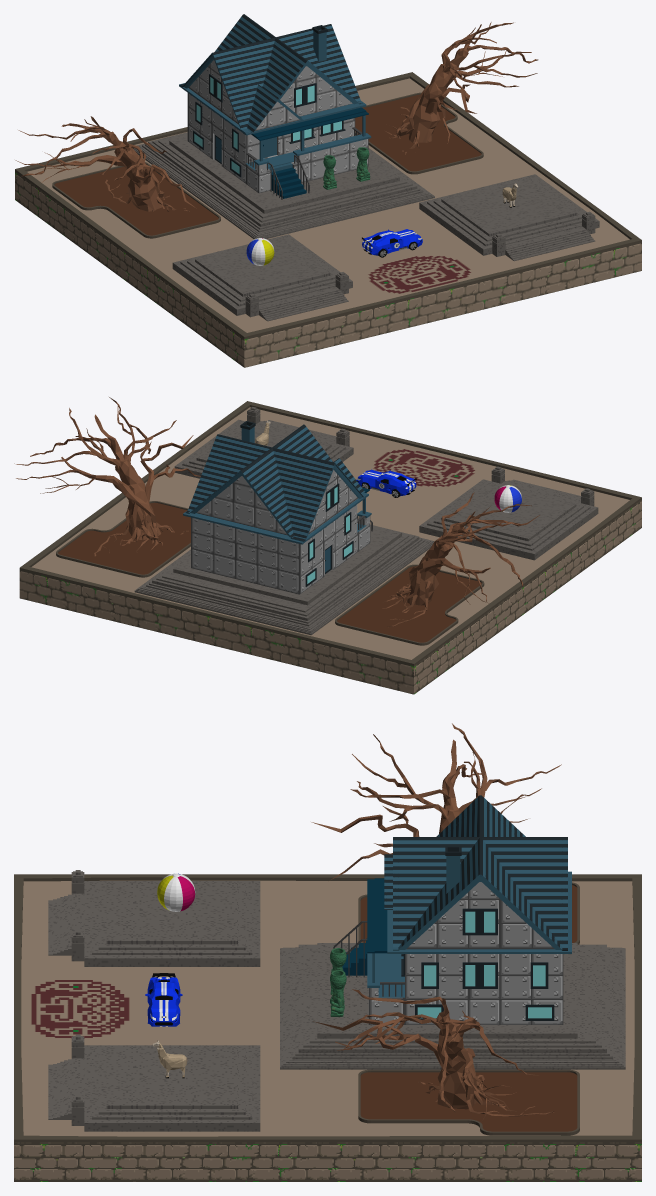
The picture shows the model from 3 angles, top to bottom: view 1: azimuth 30°, elevation 25°; view 2: azimuth 150°, elevation 25°; view 3: azimuth 270°, elevation 25°; orthographic projection. The views are drawn at different scales.
Visible parts, largest first — view 1: Cube.011, Cube.078, VEHICLES_RACING_CAR, OBJRANDOM_BEACHBALL; view 2: Cube.011, Cube.078, VEHICLES_RACING_CAR, OBJRANDOM_BEACHBALL; view 3: Cube.011, Cube.078, VEHICLES_RACING_CAR, OBJRANDOM_BEACHBALL.
Part boxes in pixels (x1,y1,x2,y2): Cube.011: (15,22,641,367); Cube.078: (179,14,371,199); VEHICLES_RACING_CAR: (362,229,422,257); OBJRANDOM_BEACHBALL: (246,238,274,265); Cube.011: (14,397,641,694); Cube.078: (183,421,372,594); VEHICLES_RACING_CAR: (356,469,416,497); OBJRANDOM_BEACHBALL: (494,485,521,512); Cube.011: (14,723,641,1181); Cube.078: (333,795,571,1024); VEHICLES_RACING_CAR: (145,973,182,1026); OBJRANDOM_BEACHBALL: (157,873,195,911).
Size of the model in its own units: 5099 by 1668 by 4000.
Materials: 33 (7 with a texture image).
